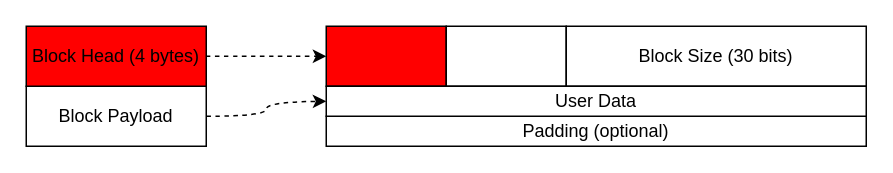
Image size: 893x173. Some labels were removed from this diagram. The shapes that lost their labels are listed below. From the top down, each one's centre as x and y in pixels, then its label:
the point at 385,55: Allocated (0/ 1 )
the point at 505,55: Pre Allocated (0/1)
